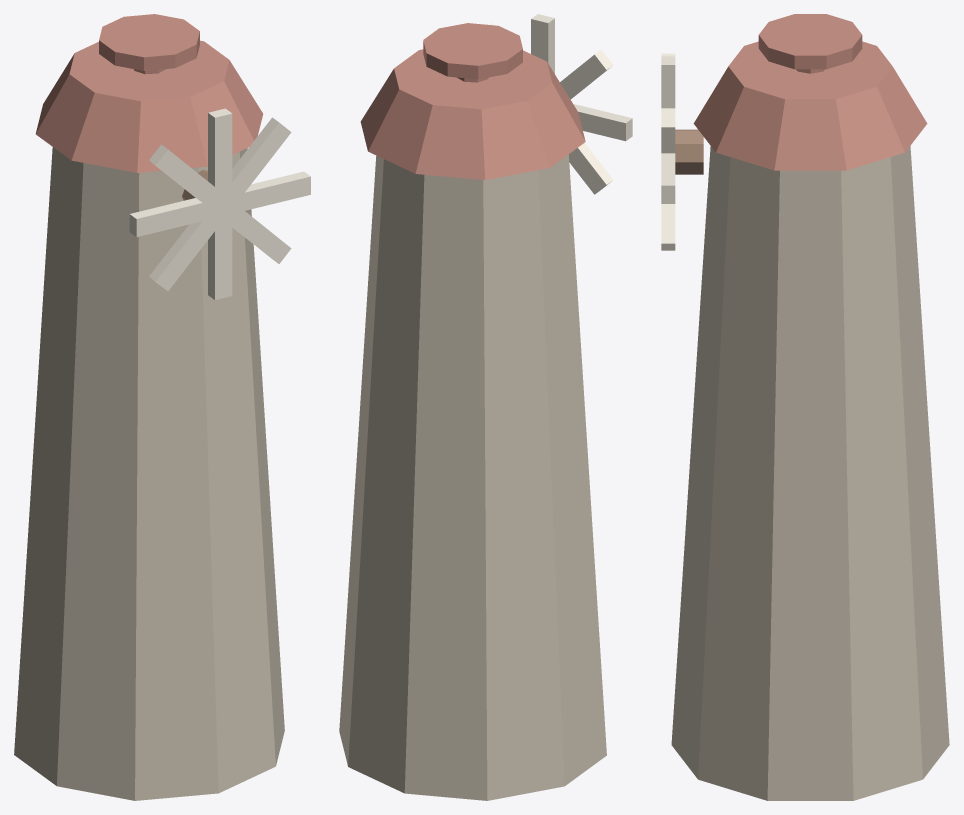
Rendered from windmill_cap_far-C7bYVqKO.glb.
3 views of the same model, side by side, from view 1: azimuth 30°, elevation 25°; view 2: azimuth 150°, elevation 25°; view 3: azimuth 270°, elevation 25° (orthographic).
Parts seen in each view (by area): view 1: windmill_cap_far; view 2: windmill_cap_far; view 3: windmill_cap_far.
Part boxes in pixels (bbox=[...]): windmill_cap_far: bbox=[14, 14, 310, 800]; windmill_cap_far: bbox=[339, 14, 632, 800]; windmill_cap_far: bbox=[661, 14, 949, 800].
Bounding box in the file's own units: 4.18 × 12.4 × 4.56.
